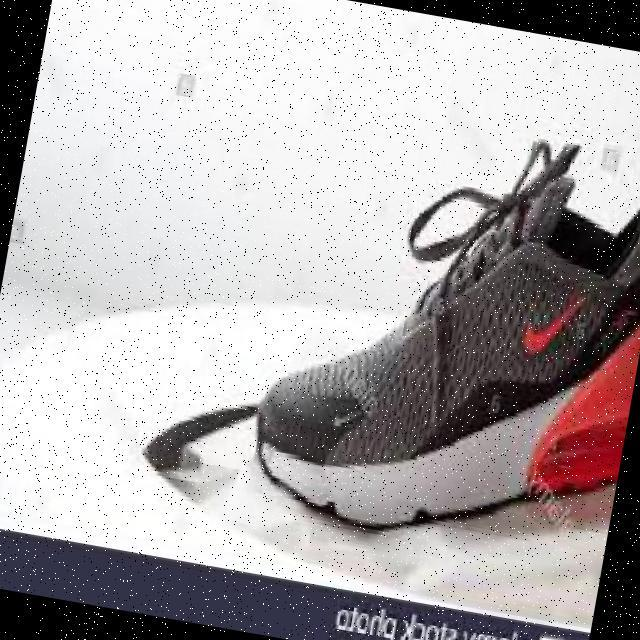Nike: (520, 280, 591, 366)
